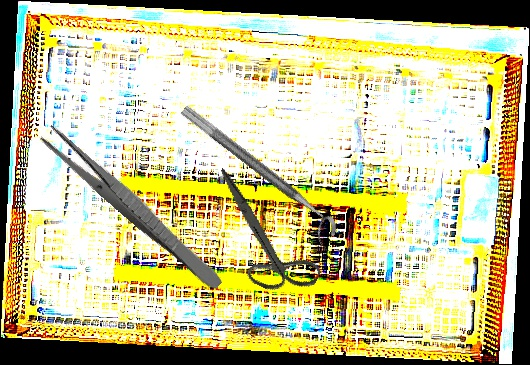Dressing Forceps: (37, 122, 229, 294)
Fixation Ring: (169, 103, 343, 249)
Iris Scissors: (184, 168, 343, 307)
